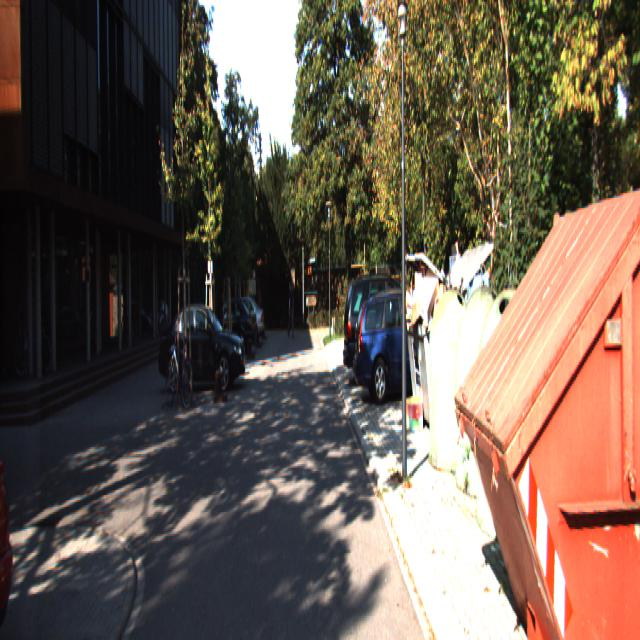Car: (353, 286, 456, 405), (342, 269, 430, 383), (159, 304, 248, 392), (201, 298, 258, 359), (220, 298, 266, 346)
